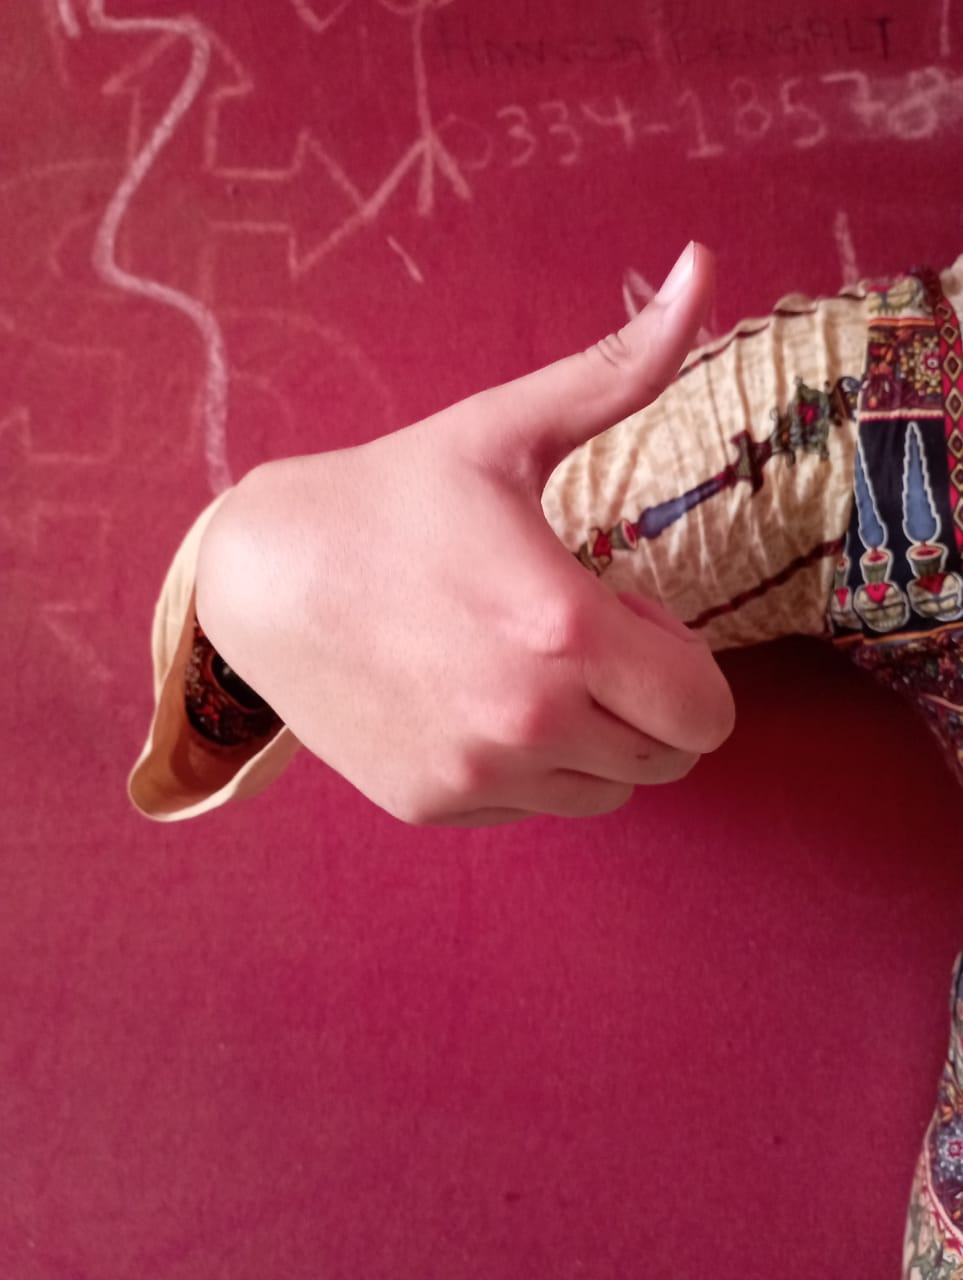I Like It: (297, 228, 748, 861)
